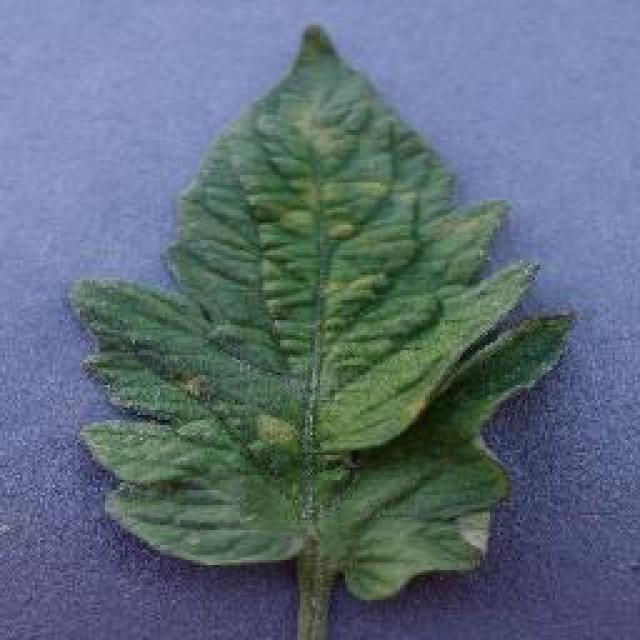Tomato___Leaf_Mold: (72, 25, 568, 638)
